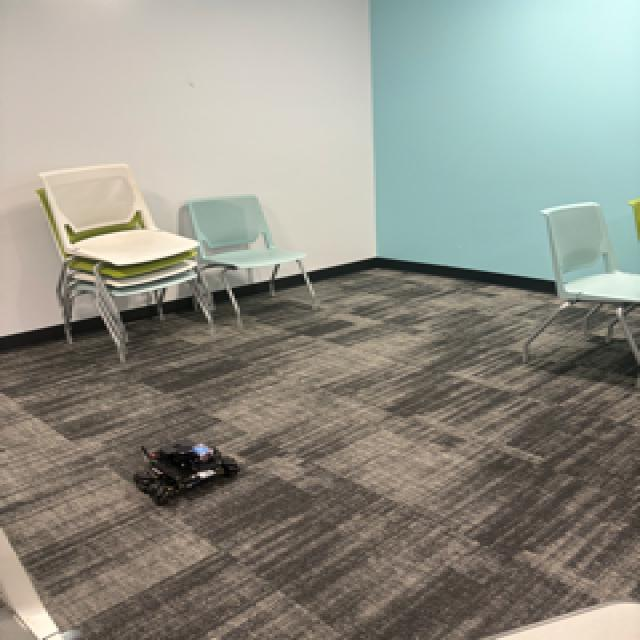ArduinoCar3: (128, 436, 242, 502)
